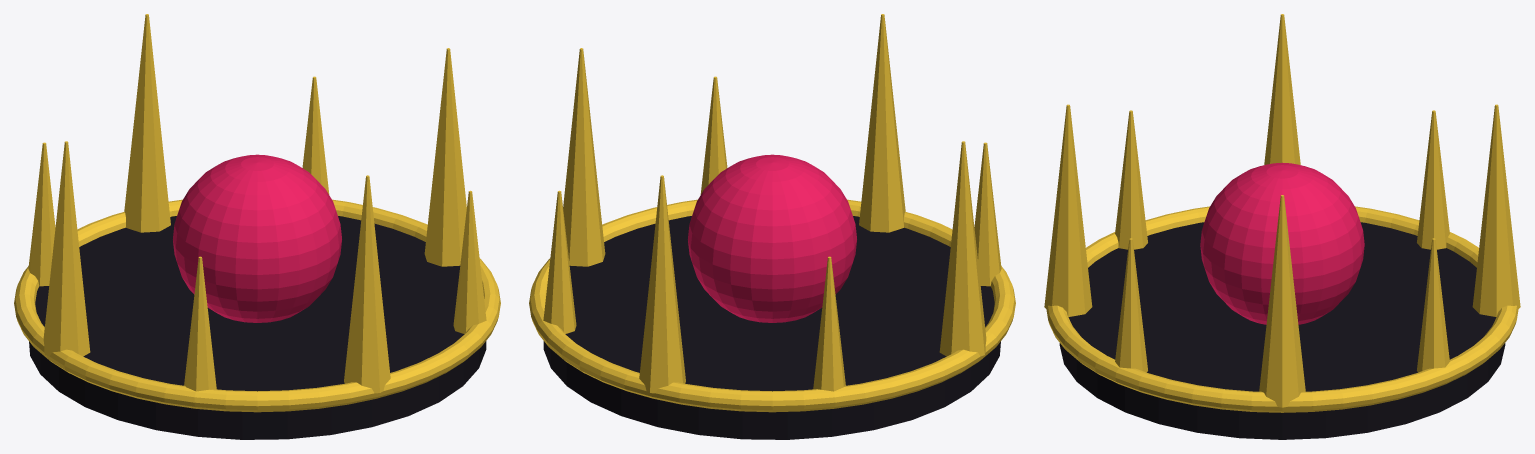
The model's file is relic_hollow_crown.obj.
3 views of the same model, side by side, from view 1: azimuth 30°, elevation 25°; view 2: azimuth 150°, elevation 25°; view 3: azimuth 270°, elevation 25° (orthographic). The views are drawn at different scales.
Parts seen in each view (by area): view 1: CircletBase, VoidRubyOrb, GoldRim, Spike_2, Spike_4, Spike_6, Spike_0, Spike_7, Spike_5, Spike_3, Spike_1; view 2: CircletBase, VoidRubyOrb, GoldRim, Spike_6, Spike_4, Spike_2, Spike_0, Spike_1, Spike_3, Spike_5, Spike_7; view 3: CircletBase, VoidRubyOrb, GoldRim, Spike_2, Spike_6, Spike_0, Spike_4, Spike_3, Spike_5, Spike_1, Spike_7.
Part boxes in pixels (x1=…): CircletBase: x1=29, y1=216, x2=486, y2=439; VoidRubyOrb: x1=173, y1=154, x2=341, y2=322; GoldRim: x1=14, y1=199, x2=500, y2=412; Spike_2: x1=124, y1=14, x2=170, y2=232; Spike_4: x1=43, y1=141, x2=90, y2=356; Spike_6: x1=344, y1=175, x2=390, y2=393; Spike_0: x1=424, y1=48, x2=466, y2=266; Spike_7: x1=453, y1=190, x2=486, y2=333; Spike_5: x1=184, y1=256, x2=216, y2=391; Spike_3: x1=28, y1=142, x2=55, y2=286; Spike_1: x1=302, y1=76, x2=329, y2=194; CircletBase: x1=543, y1=216, x2=1000, y2=439; VoidRubyOrb: x1=688, y1=154, x2=856, y2=322; GoldRim: x1=529, y1=199, x2=1015, y2=412; Spike_6: x1=859, y1=14, x2=905, y2=232; Spike_4: x1=939, y1=141, x2=986, y2=356; Spike_2: x1=639, y1=175, x2=685, y2=393; Spike_0: x1=563, y1=48, x2=605, y2=266; Spike_1: x1=543, y1=190, x2=576, y2=333; Spike_3: x1=813, y1=256, x2=845, y2=391; Spike_5: x1=974, y1=142, x2=1001, y2=286; Spike_7: x1=700, y1=76, x2=727, y2=194; CircletBase: x1=1059, y1=222, x2=1505, y2=439; VoidRubyOrb: x1=1200, y1=162, x2=1364, y2=324; GoldRim: x1=1046, y1=206, x2=1518, y2=412; Spike_2: x1=1472, y1=104, x2=1520, y2=316; Spike_6: x1=1044, y1=104, x2=1092, y2=316; Spike_0: x1=1259, y1=195, x2=1305, y2=407; Spike_4: x1=1264, y1=14, x2=1300, y2=164; Spike_3: x1=1417, y1=110, x2=1449, y2=249; Spike_5: x1=1115, y1=110, x2=1147, y2=249; Spike_1: x1=1417, y1=238, x2=1449, y2=372; Spike_7: x1=1115, y1=238, x2=1147, y2=372.
Size of the model in its own units: 2.78 by 1.55 by 2.78.
